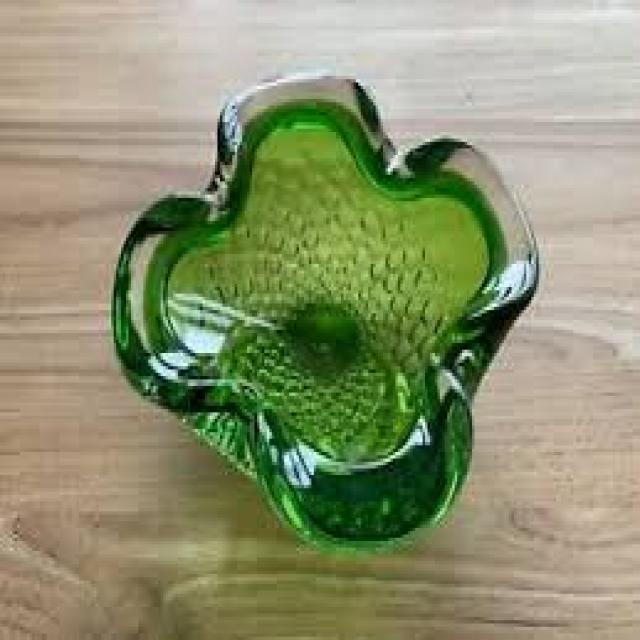Glass-Non-Biodegradable but Recyclable-: (110, 71, 538, 546)
